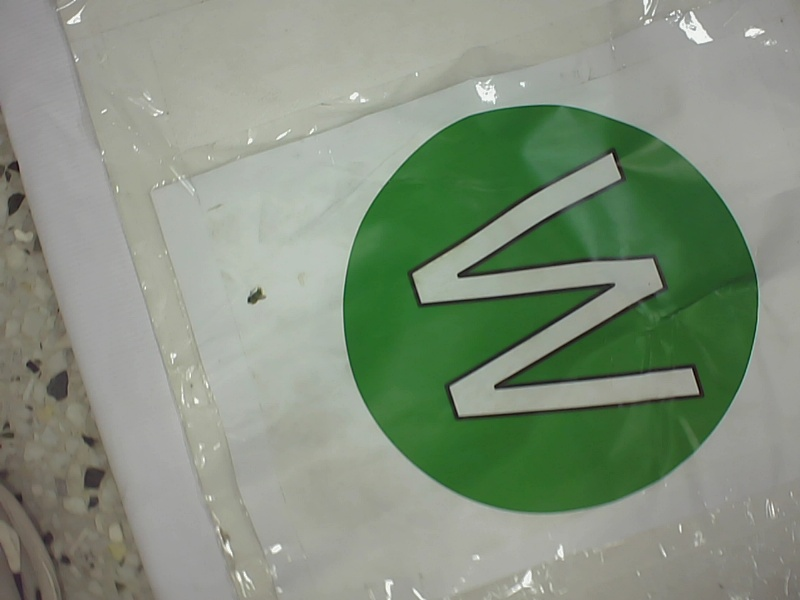areaB: (330, 99, 764, 528)
